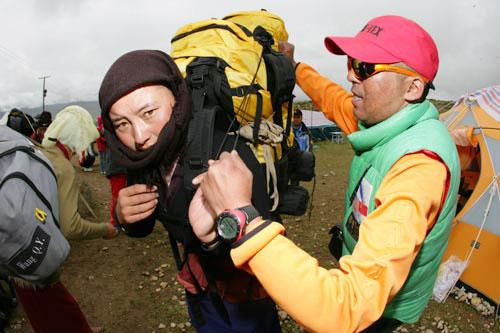NONE: (346, 55, 403, 124)
WRONG: (114, 95, 183, 169)
